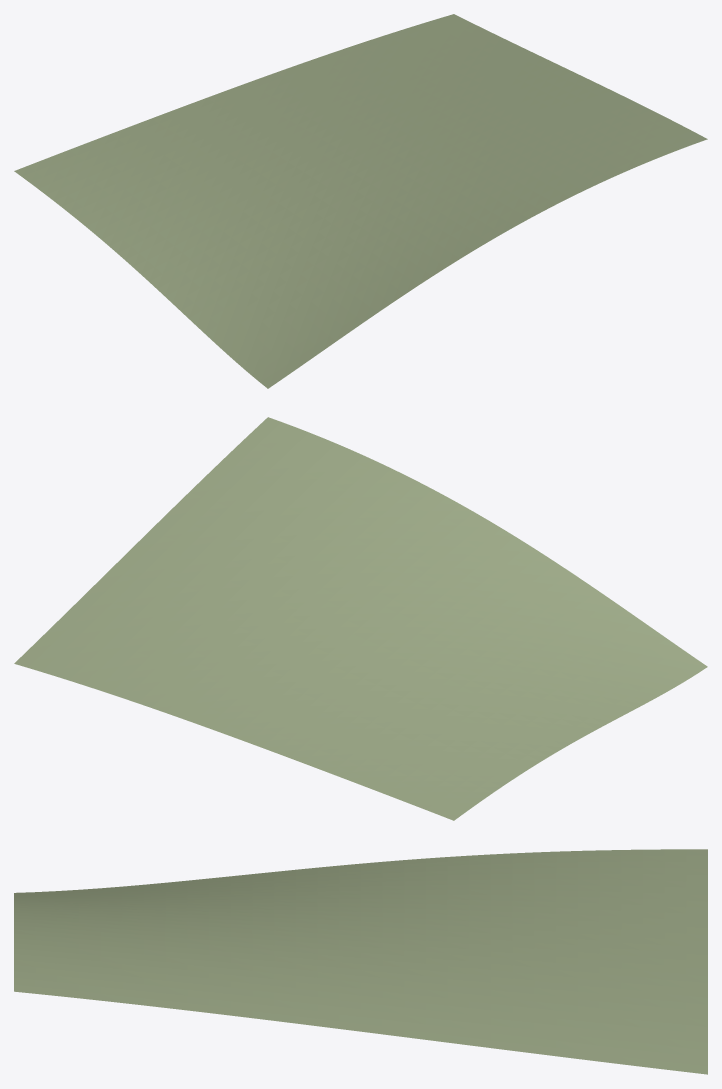
Rendered from expanse-16-16.glb.
3 views of the same model, one above another, from view 1: azimuth 30°, elevation 25°; view 2: azimuth 150°, elevation 25°; view 3: azimuth 270°, elevation 25° (orthographic). The views are drawn at different scales.
Visible parts, largest first — view 1: expanse-16-16; view 2: expanse-16-16; view 3: expanse-16-16.
Part boxes in pixels (x1,y1,x2,y2): expanse-16-16: (14,14,707,388); expanse-16-16: (14,417,707,820); expanse-16-16: (14,849,707,1074).
Bounding box in the file's own units: 256 × 79.17 × 256.
